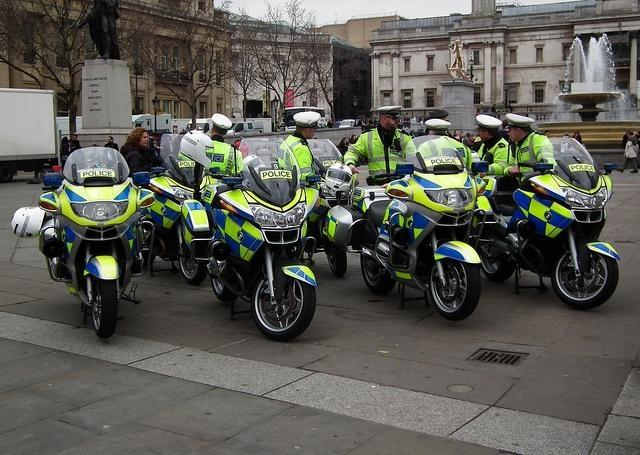motorcycle: (181, 137, 322, 338), (458, 139, 622, 310), (10, 148, 157, 338), (323, 134, 493, 284), (150, 133, 216, 285), (304, 138, 346, 174), (468, 148, 494, 176)
truck: (1, 87, 58, 182), (132, 113, 172, 132), (185, 118, 212, 134)
